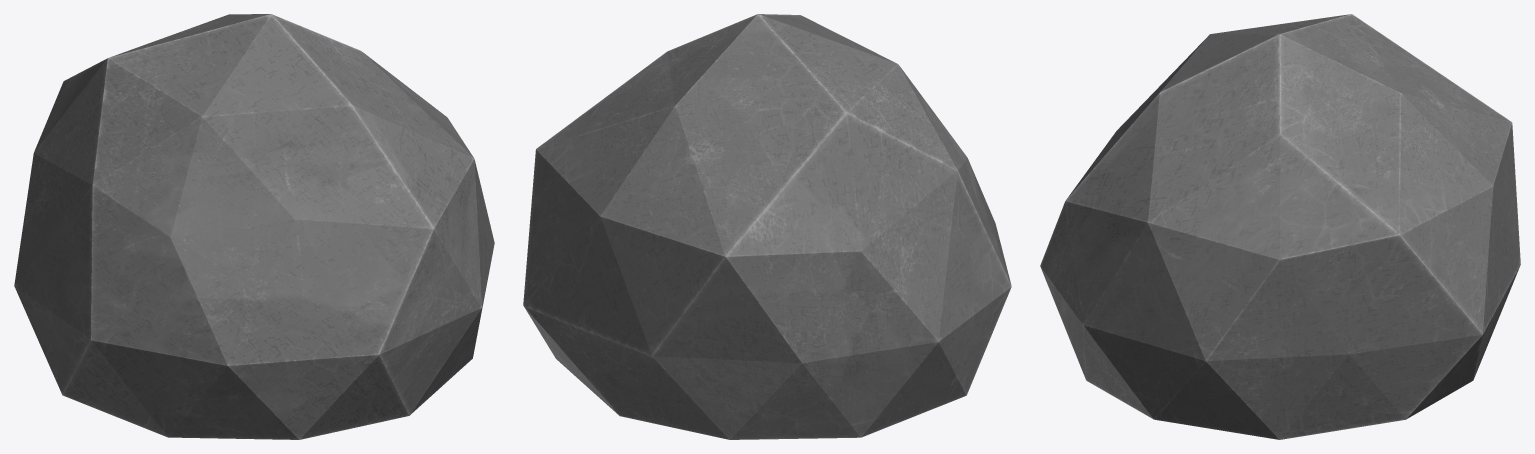
Rendered from Rock_01.fbx.
3 renders of one model, left to right at view 1: azimuth 30°, elevation 25°; view 2: azimuth 150°, elevation 25°; view 3: azimuth 270°, elevation 25°, orthographic. The views are drawn at different scales.
Visible parts, largest first — view 1: Rock_01; view 2: Rock_01; view 3: Rock_01.
Boxes of the visible parts, bbox=[...] form: Rock_01: bbox=[14, 14, 494, 439]; Rock_01: bbox=[523, 14, 1011, 439]; Rock_01: bbox=[1040, 14, 1520, 439].
Size of the model in its own units: 61.29 by 49.06 by 65.06.
Materials: 1 (1 with a texture image).
